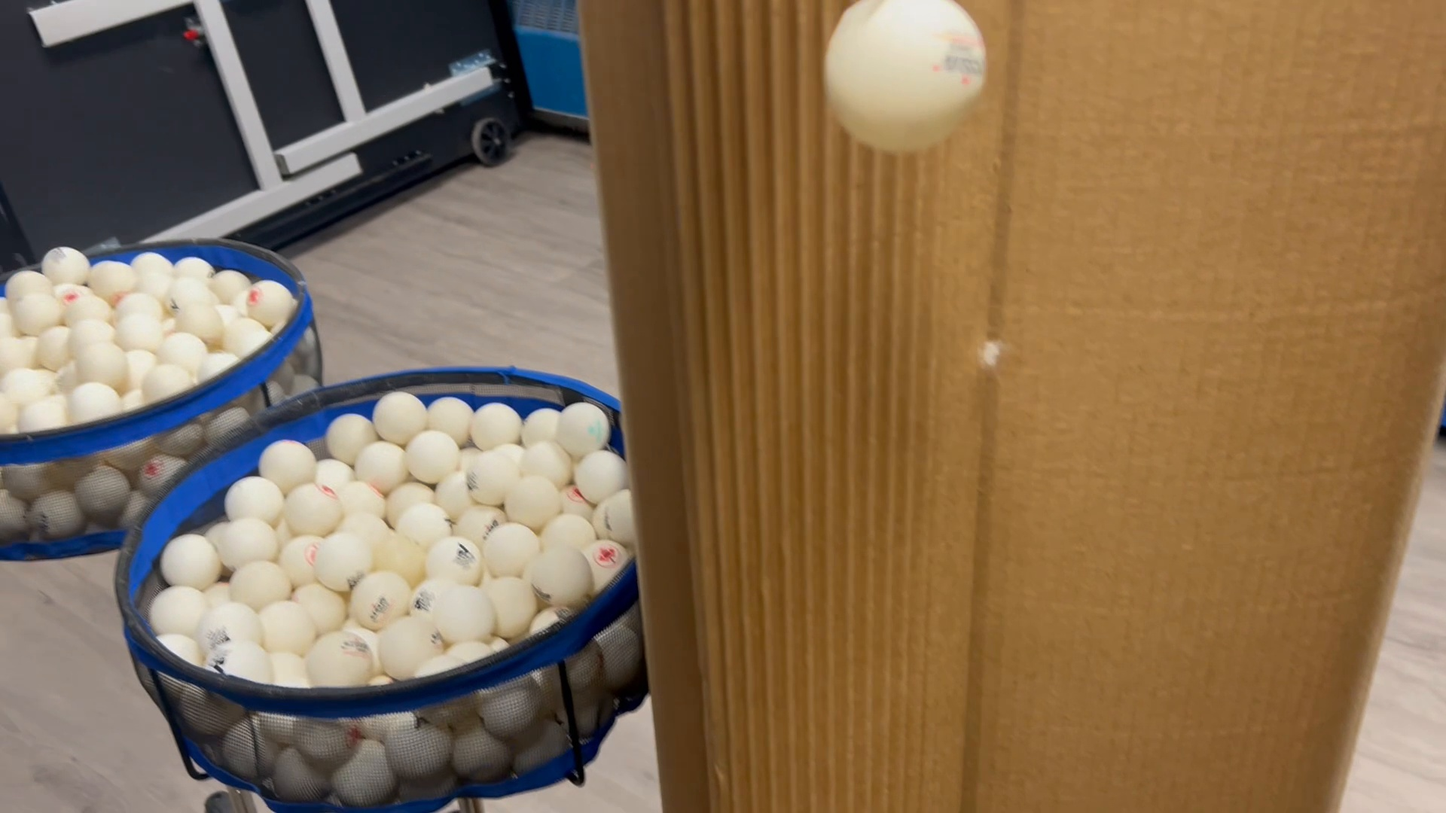Ball: (821, 6, 986, 150)
